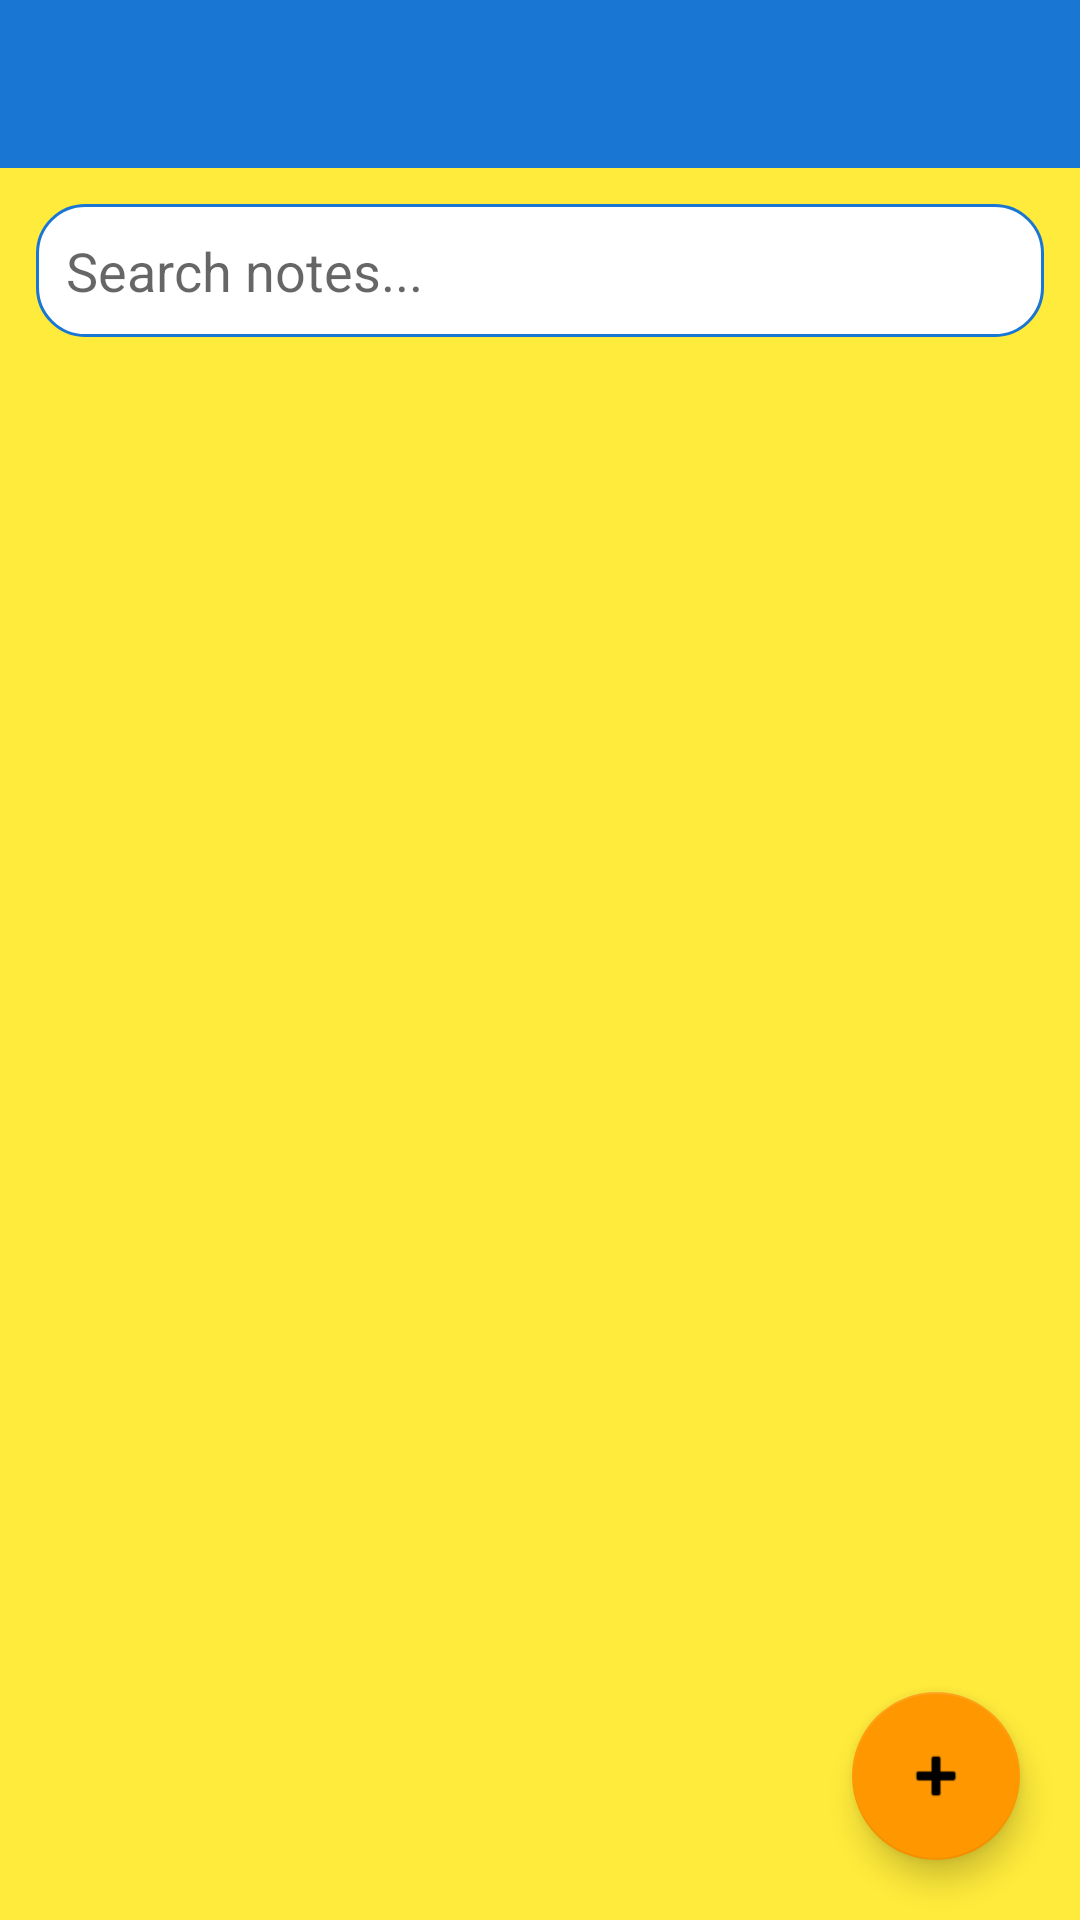

Named icons in this screenshot (1080x1920) and their centers, point (x, y):
Add Note: point (936, 1776)
